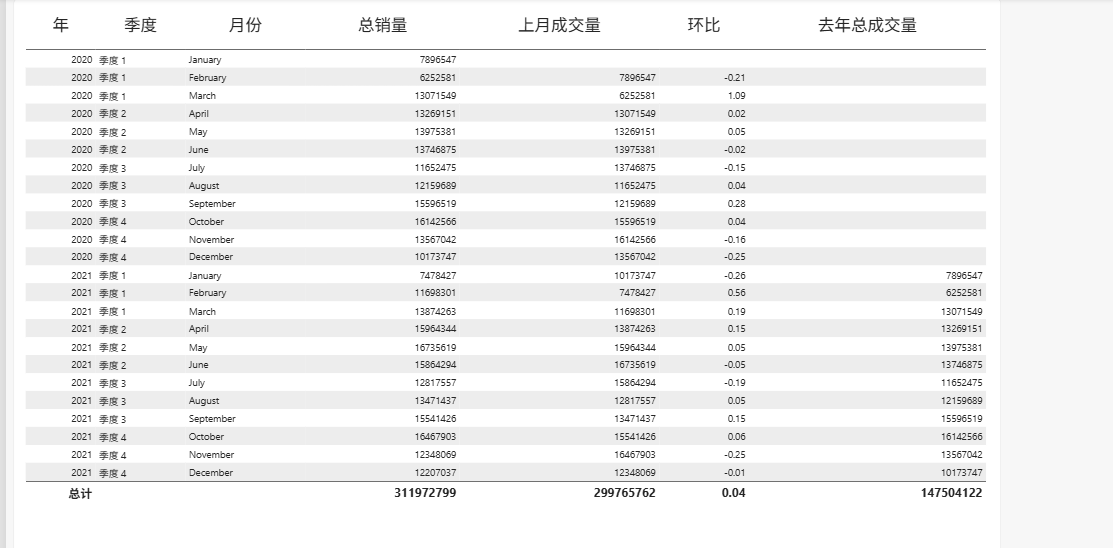

What the dashboard file says about the page in this screenshot:
{"tool":"powerbi","page":{"name":"销量分析环比","canvas":[1920,1080],"ordinal":2},"visuals":[{"type":"tableEx","fields":{"Values":["年月.日期.Variation.日期层次结构.年","年月.日期.Variation.日期层次结构.季度","年月.日期.Variation.日期层次结构.月份","孕妇装-孕产妇用品-营养行业数据.总销量","孕妇装-孕产妇用品-营养行业数据.上月成交量","孕妇装-孕产妇用品-营养行业数据.环比","孕妇装-孕产妇用品-营养行业数据.去年总成交量"]},"box":[10.9,0,1429.6,859.6],"z":0}]}

Visuals, with their boxes on the page's 1920x1080 design canvas (x1, y1, x2, y2). These are canvas units, not pixel positions in the 1113x548 screenshot, which may show the page scaled, cropped or inside an application window:
tableEx - 年月.日期.Variation.日期层次结构.年 x 年月.日期.Variation.日期层次结构.季度: (x1=11, y1=0, x2=1440, y2=860)
